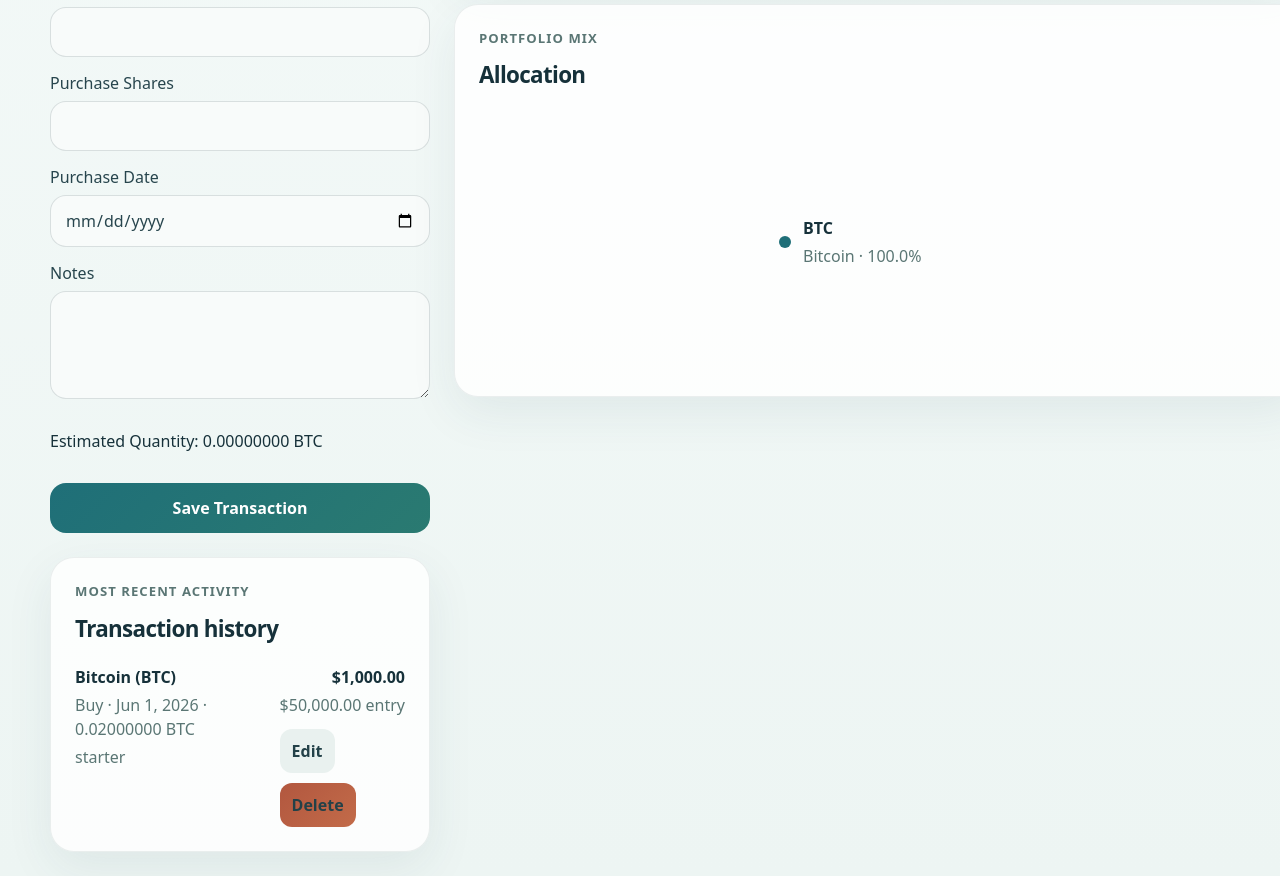
requires delete confirmation and supports cancel
(page scrolled)
Click the button with aria-label "delete bitcoin" at [318, 806], box [280,784,356,828]
(page scrolled)
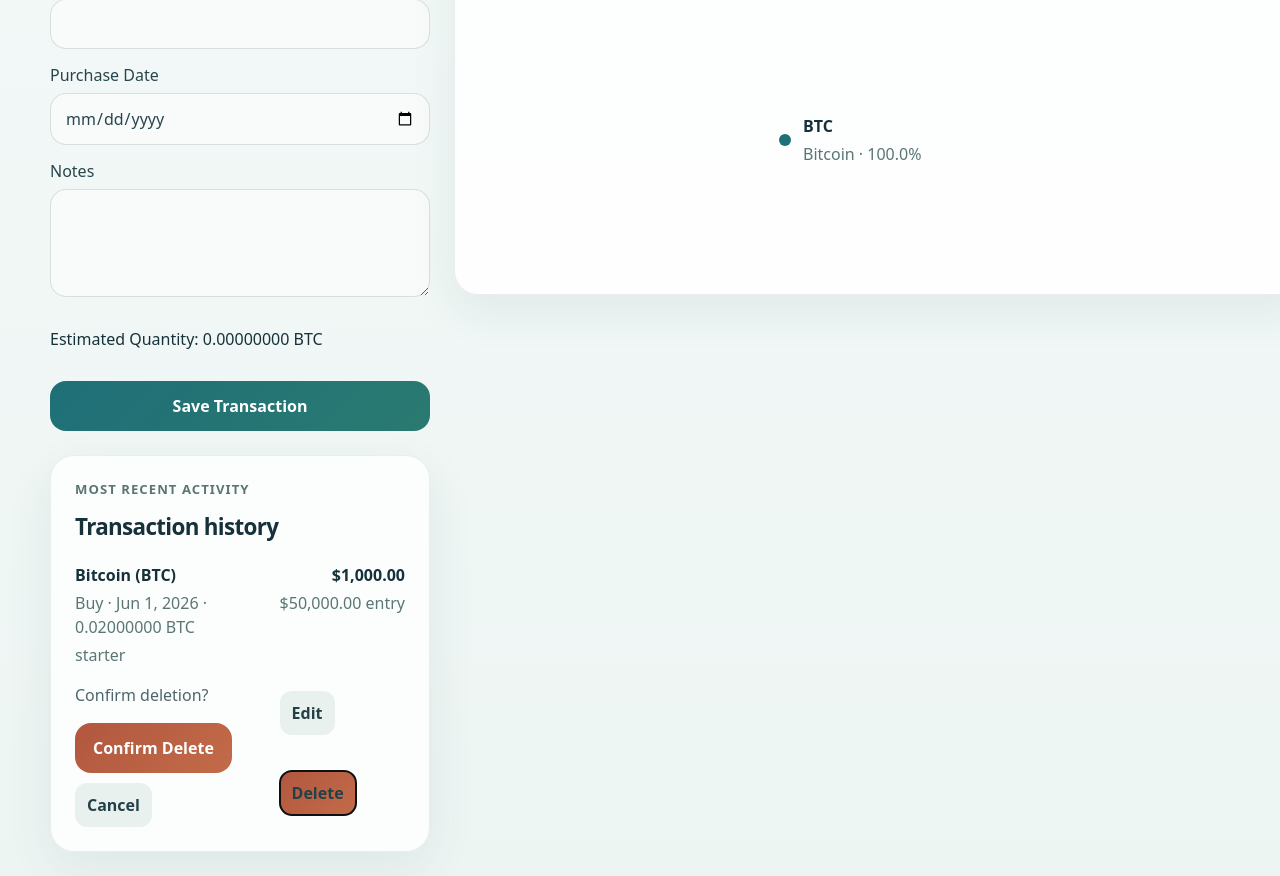
Result: the text "Confirm deletion?" is shown at [75,684,208,706]
Click the button with aria-label "cancel delete bitcoin" at [113, 806], box [75,784,152,828]
(page scrolled)
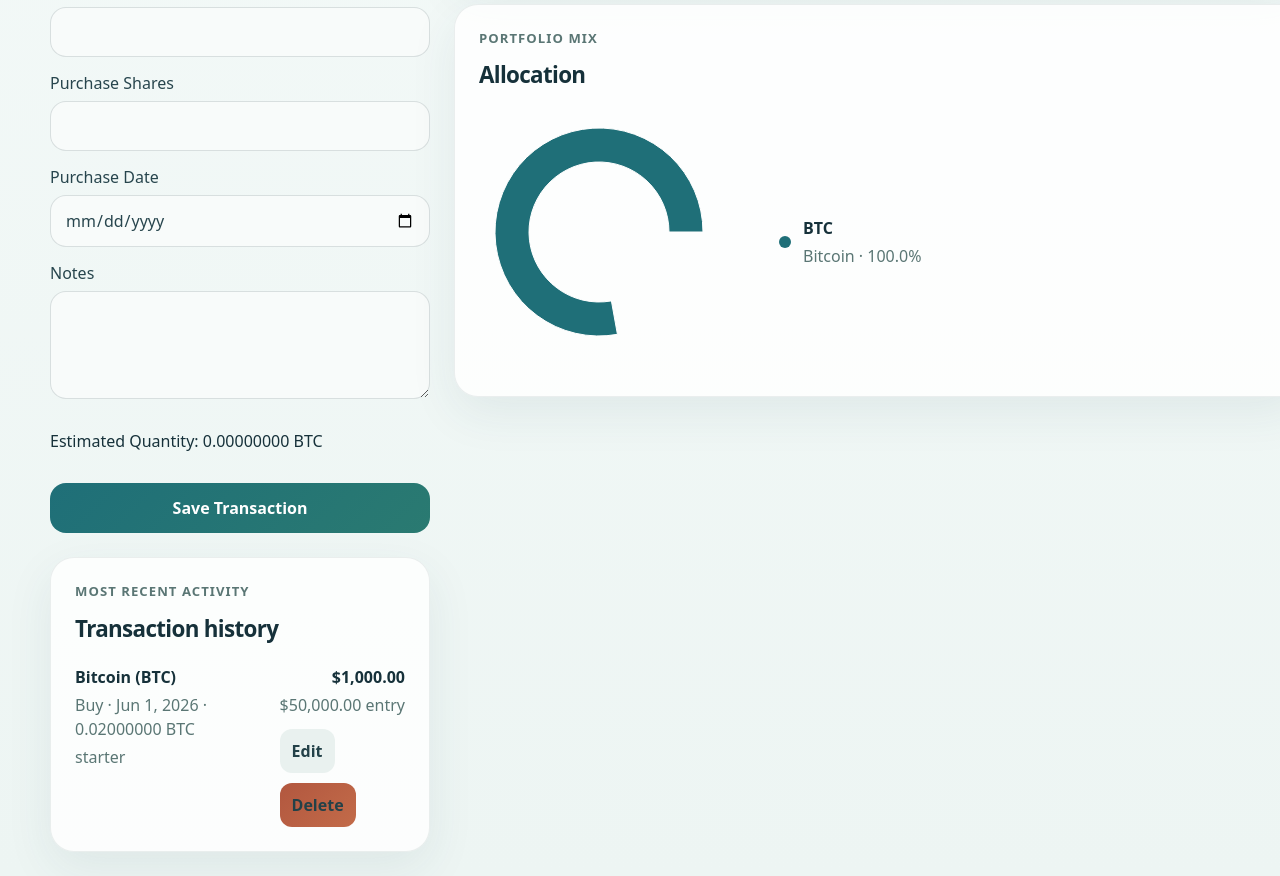
Expected: the text "Bitcoin (BTC)" is shown, [75,666,176,688]
Result: the text "Confirm deletion" is gone
